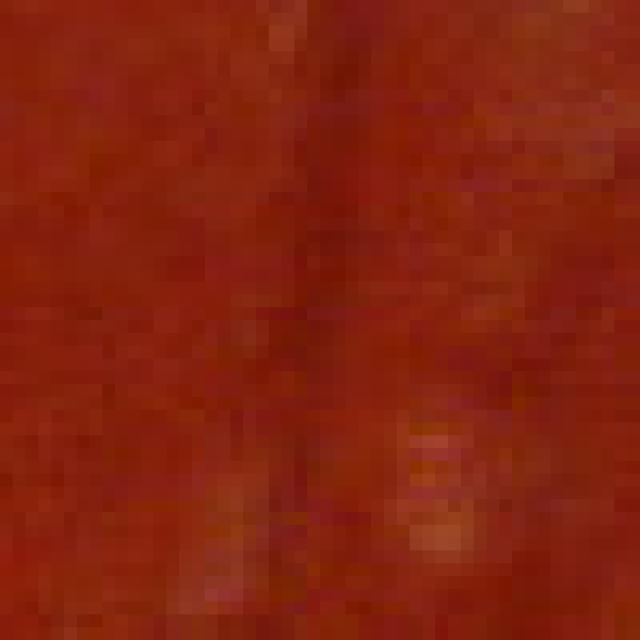no_fire: (0, 4, 640, 581)
